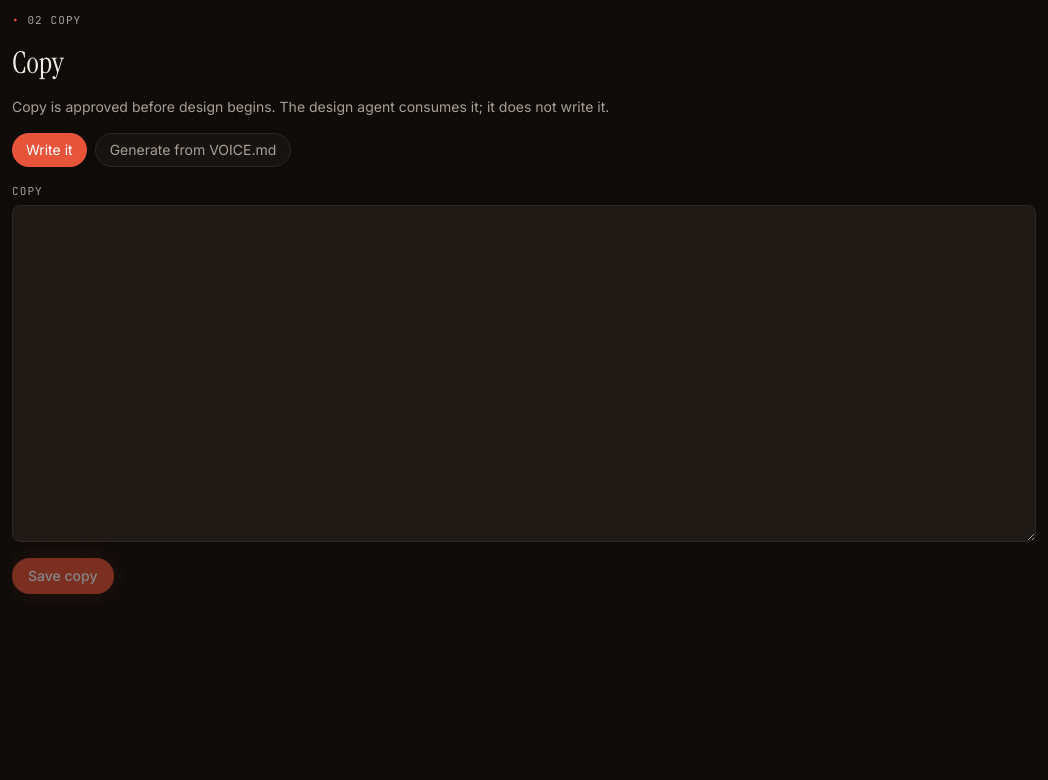
CopyStage › shows the VOICE.md error verbatim when generation is refused
The width and height of the screenshot is (1048, 780).
Step 1. Click the tab "Generate from VOICE.md" → (193, 150), box [95,132,291,166]
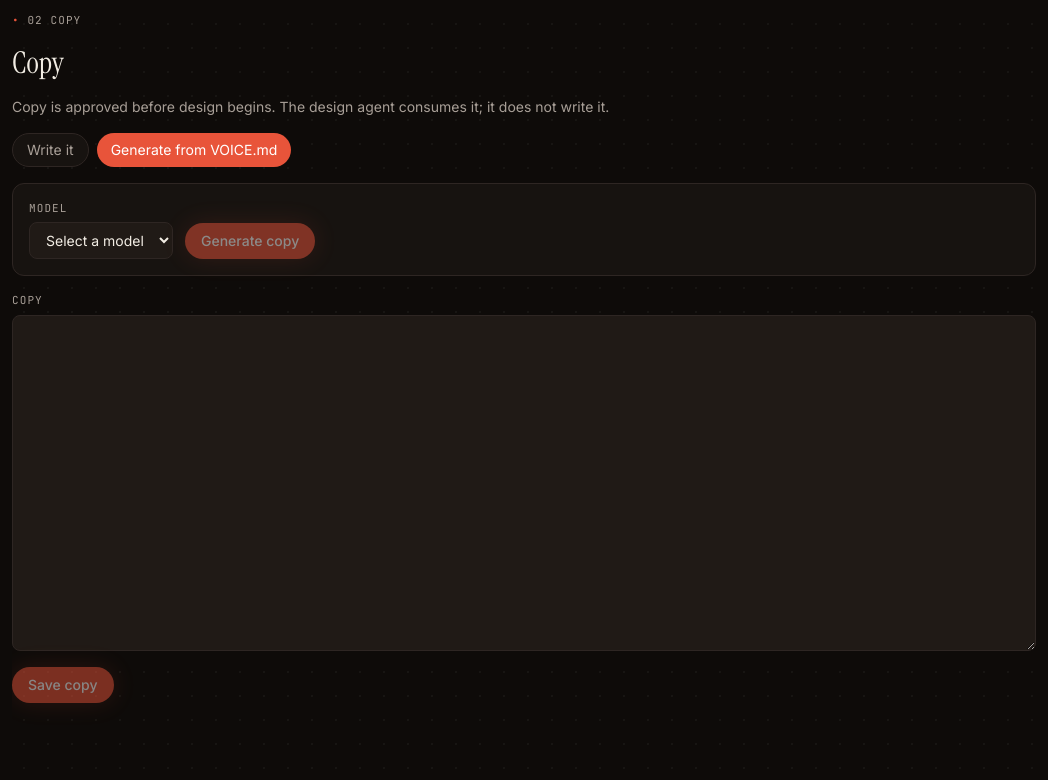
Step 2. Select "claude" in the dropdown labelled "Model" → (101, 240), box [29,222,173,259]
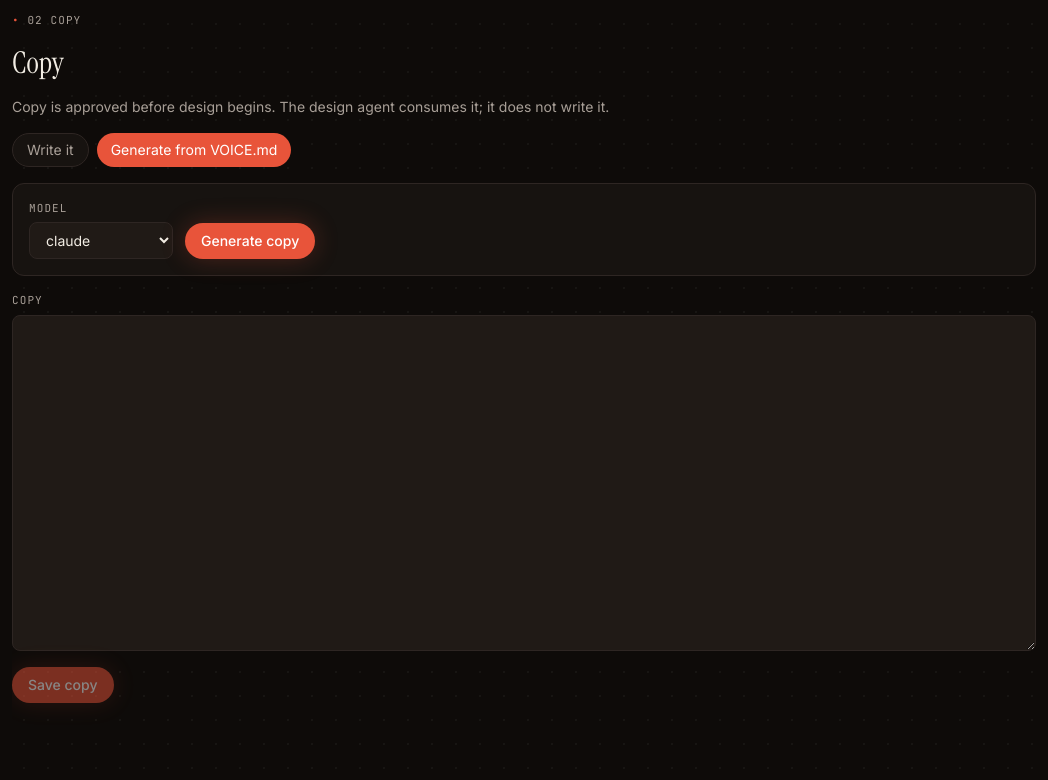
Step 3. Click the button "Generate copy" → (250, 241), box [185,223,315,259]
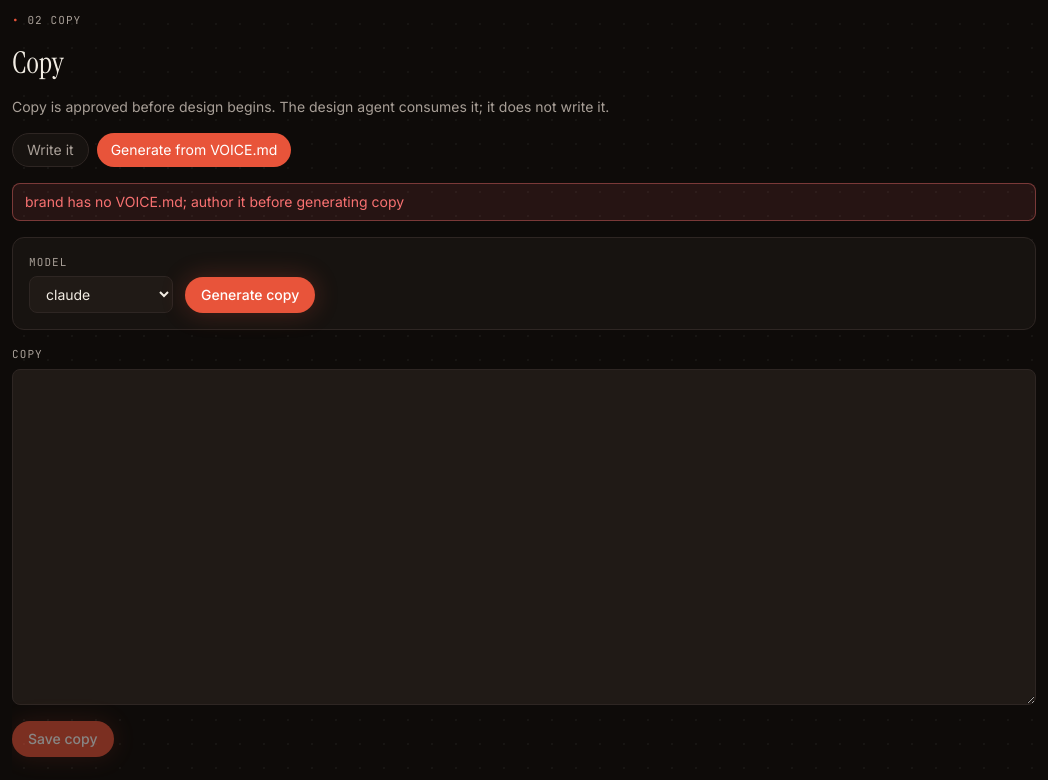
Now the message reads "brand has no VOICE.md; author it before generating copy", box [25,192,404,210]
